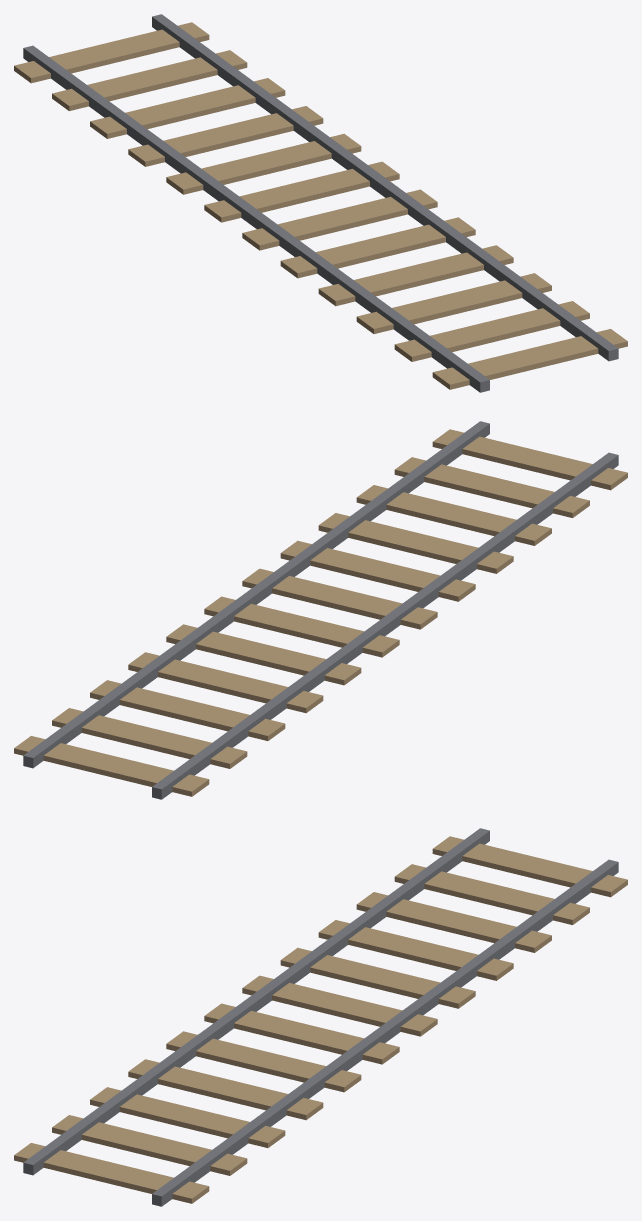
File: LightWoodMechLargeTrainTrackGeo.fbx
3 views of the same model, one above another, from view 1: azimuth 30°, elevation 25°; view 2: azimuth 150°, elevation 25°; view 3: azimuth 330°, elevation 25° (orthographic).
Visible parts, largest first — view 1: LightWoodMechLargeTrainTrackGeo; view 2: LightWoodMechLargeTrainTrackGeo; view 3: LightWoodMechLargeTrainTrackGeo.
Boxes of the visible parts, x1,y1,x2,y2 form: LightWoodMechLargeTrainTrackGeo: (14, 14, 627, 392); LightWoodMechLargeTrainTrackGeo: (14, 421, 627, 799); LightWoodMechLargeTrainTrackGeo: (14, 828, 627, 1206).
Bounding box in the file's own units: 180 × 10 × 800.
